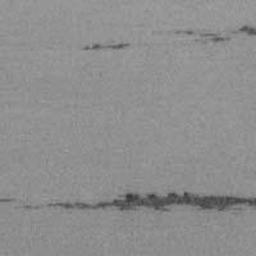Inclusion: (12, 191, 256, 214), (173, 24, 256, 46), (83, 41, 131, 52), (0, 197, 14, 204)
